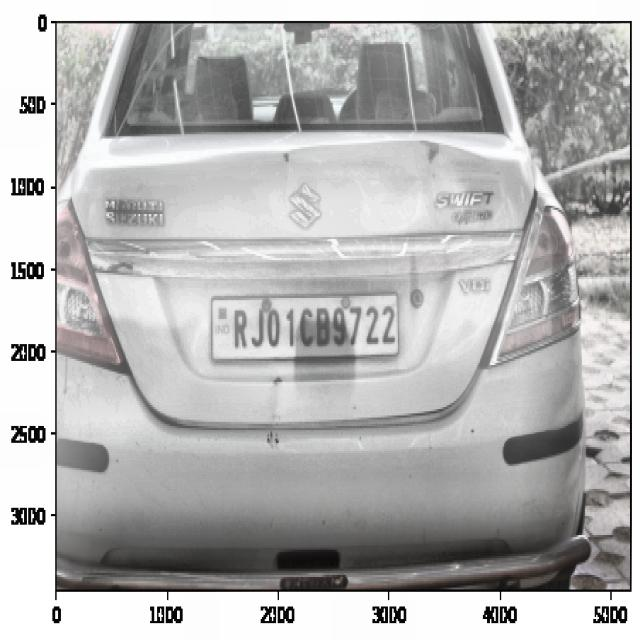license_plate: (227, 302, 403, 358)
